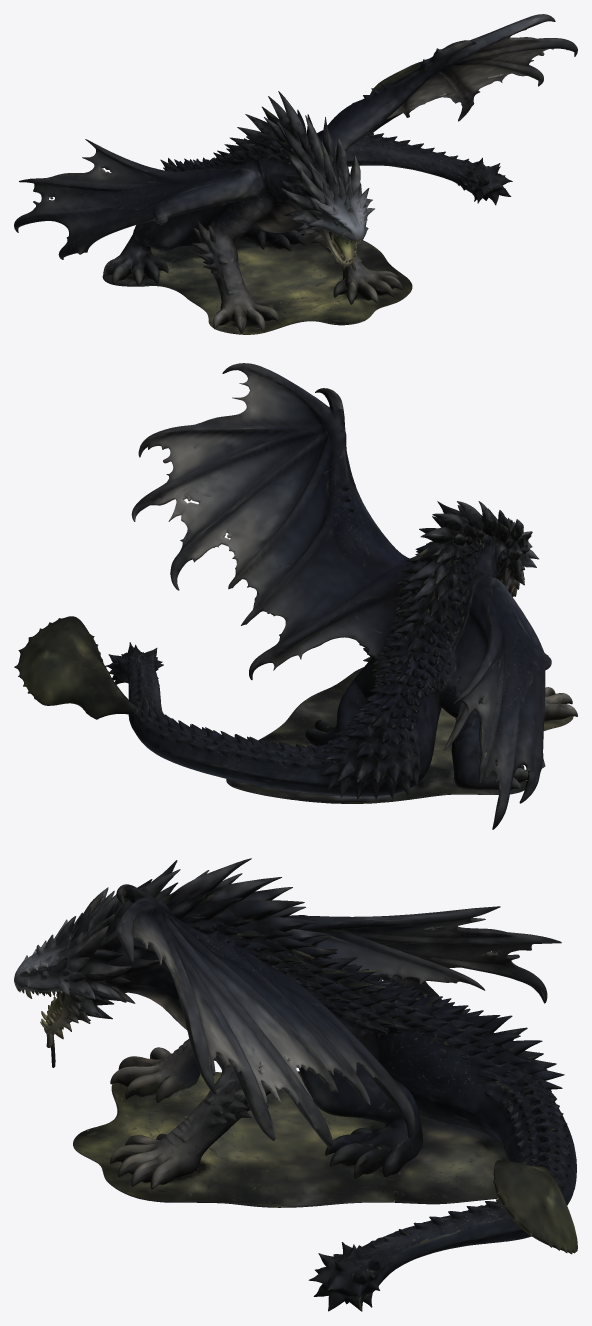
Rendered from young_black_dragon.glb.
The picture shows the model from 3 angles, top to bottom: view 1: azimuth 30°, elevation 25°; view 2: azimuth 150°, elevation 25°; view 3: azimuth 270°, elevation 25°; orthographic projection. The views are drawn at different scales.
Parts seen in each view (by area): view 1: material; view 2: material; view 3: material.
Part boxes in pixels (box(x1,y1,x2,y2)): material: box(14, 14, 577, 334); material: box(14, 363, 577, 829); material: box(14, 858, 577, 1311).
Size of the model in its own units: 0.9429 by 0.5018 by 0.7143.
Materials: 1 (1 with a texture image).
